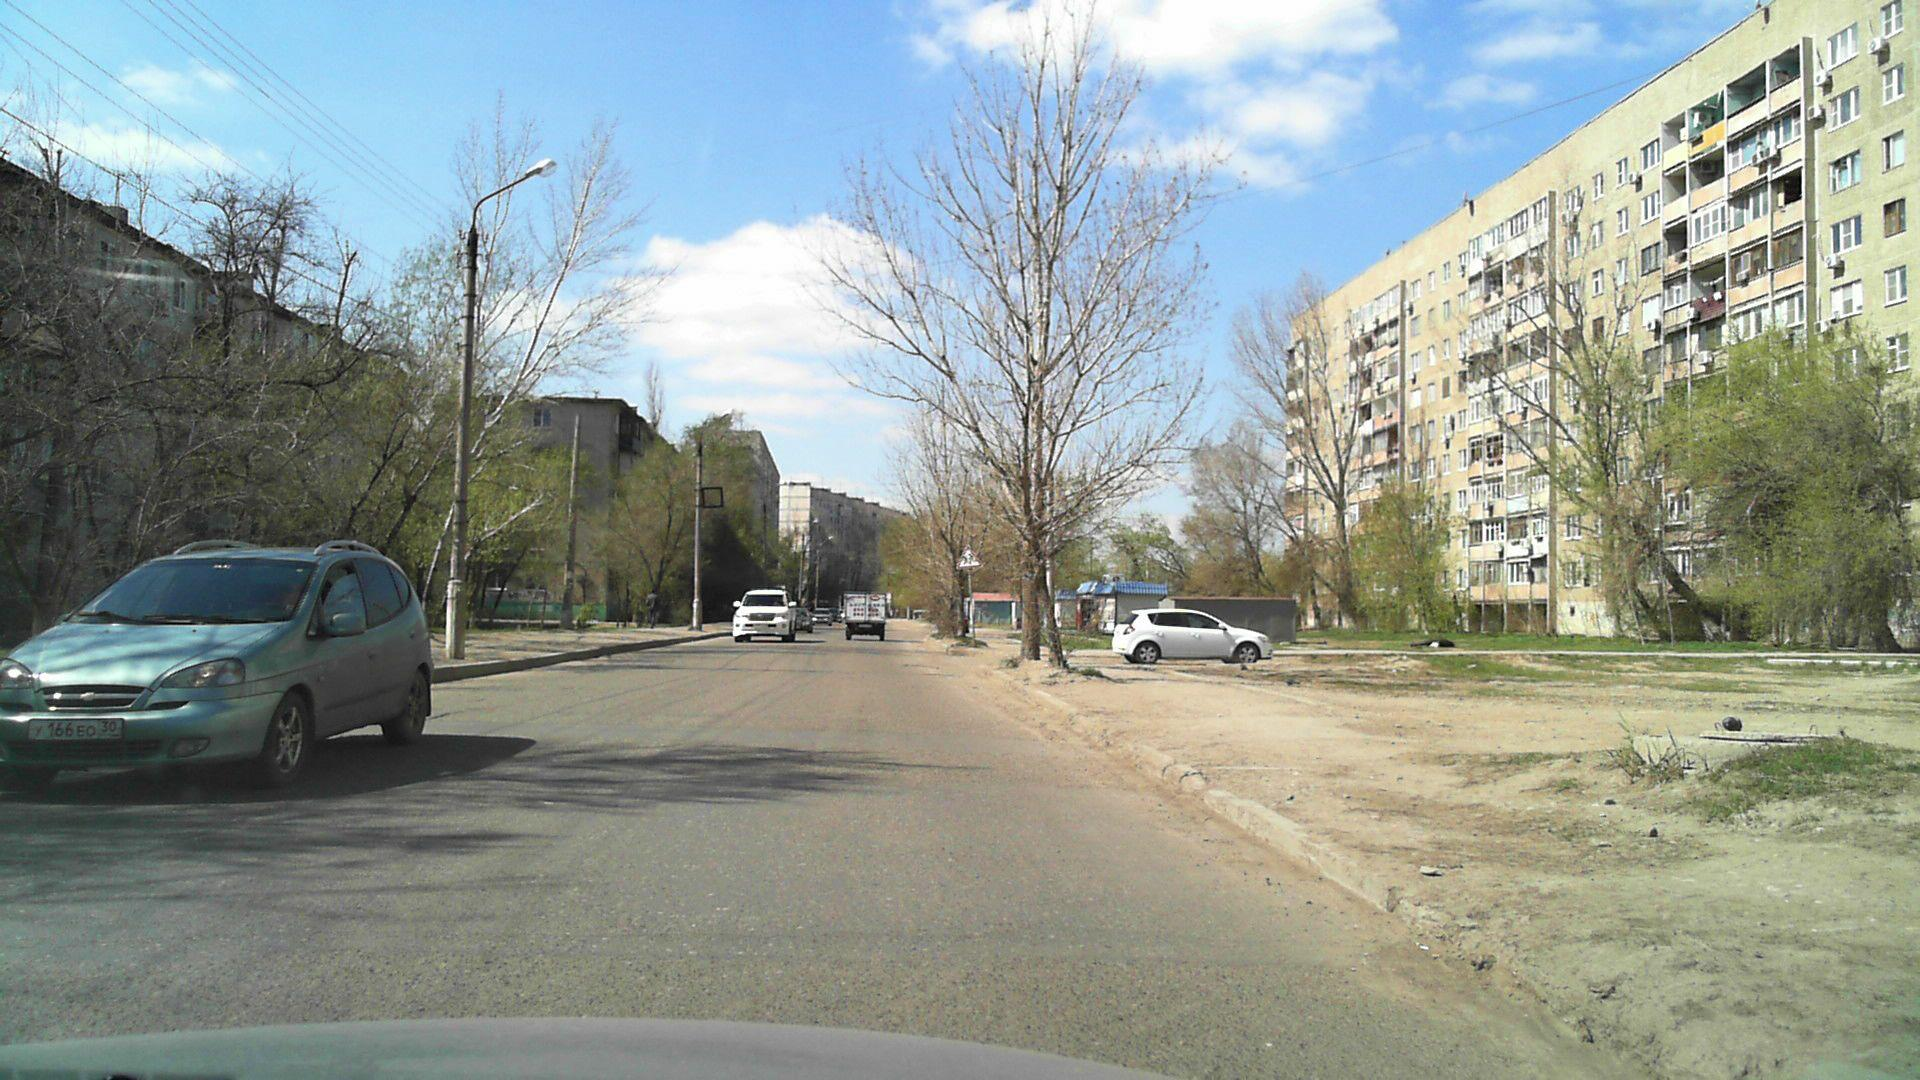1_23: (953, 542, 984, 570)
